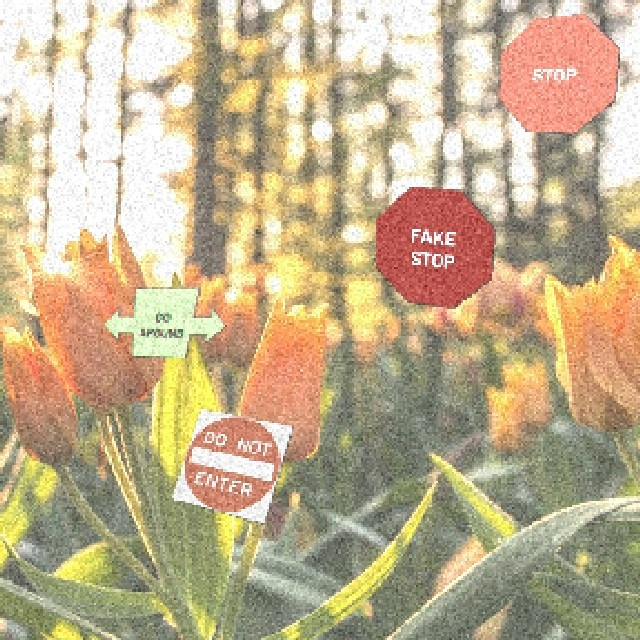DO_NOT_ENTER: (169, 406, 292, 523)
FAKE_STOP: (373, 184, 494, 307)
GO_AROUND: (102, 285, 225, 357)
STOP: (496, 12, 619, 133)
